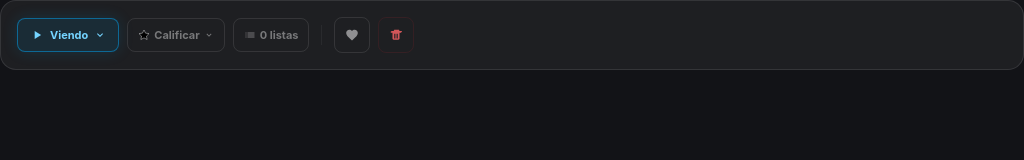
AnimeTrackingSection › shows an error banner when removing fails
Click the button titled "eliminar de mi lista".
click(396, 35)  # box [378, 17, 414, 53]
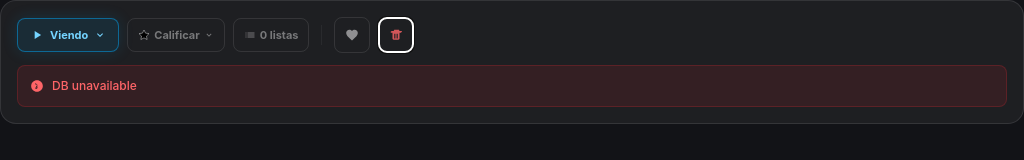
Expected: the text "DB unavailable" is shown, [17, 65, 1007, 107]
